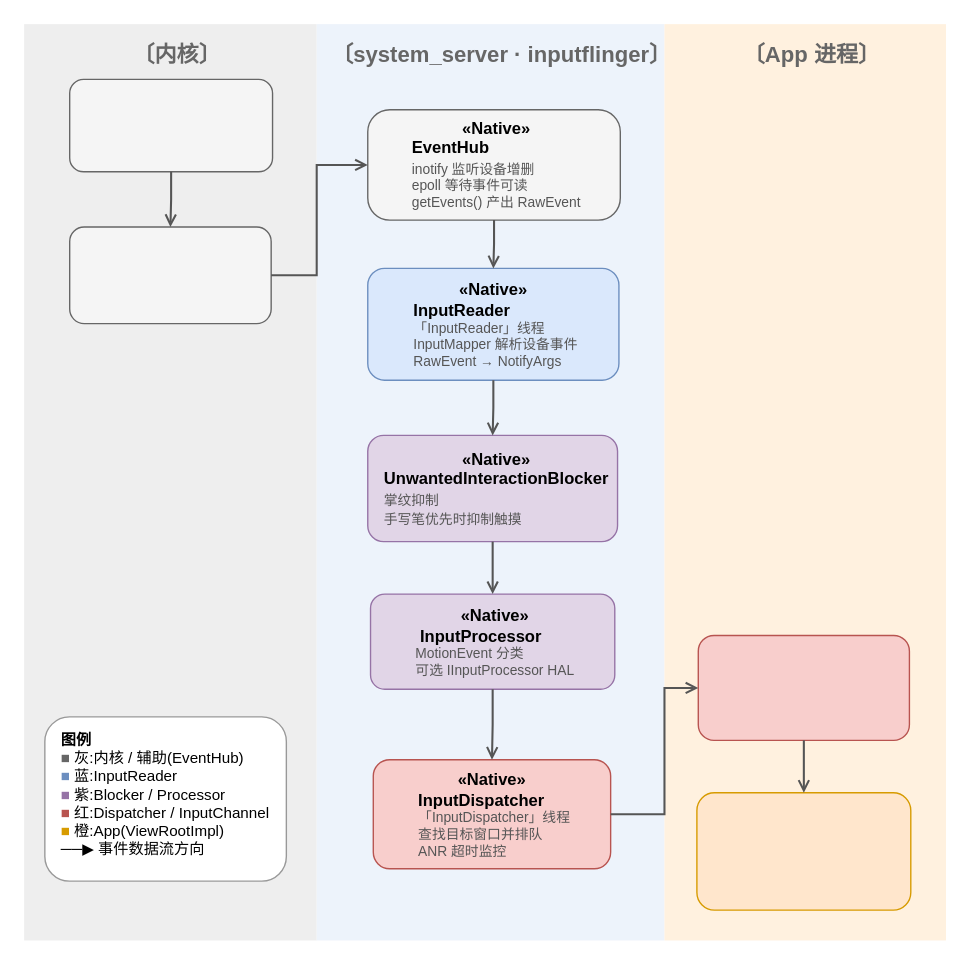
This 969x963 diagram has some shape labels left out. The centre of each missing label's shape, as x and y in pixels:
"«App» ViewRootImpl InputEventReceiver 收事件 KeyEvent / MotionEvent 交付 View 树消费" belongs at (x=803, y=850).
"«IPC» InputChannel socketpair 全双工 InputMessage 字节流" belongs at (x=803, y=687).
"«内核» /dev/input/eventX 字符设备节点 内核 → 用户态的边界" belongs at (x=169, y=275).
"«内核» Linux Kernel 触屏 / 按键硬件中断 evdev 驱动写 input_event" belongs at (x=170, y=125).
